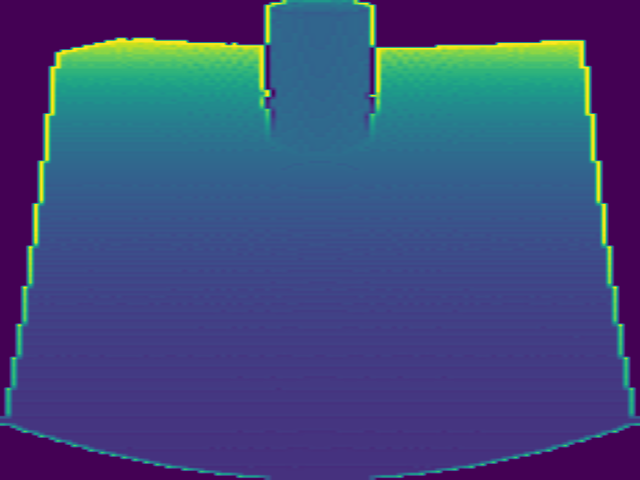cylinder: (259, 1, 380, 148)
